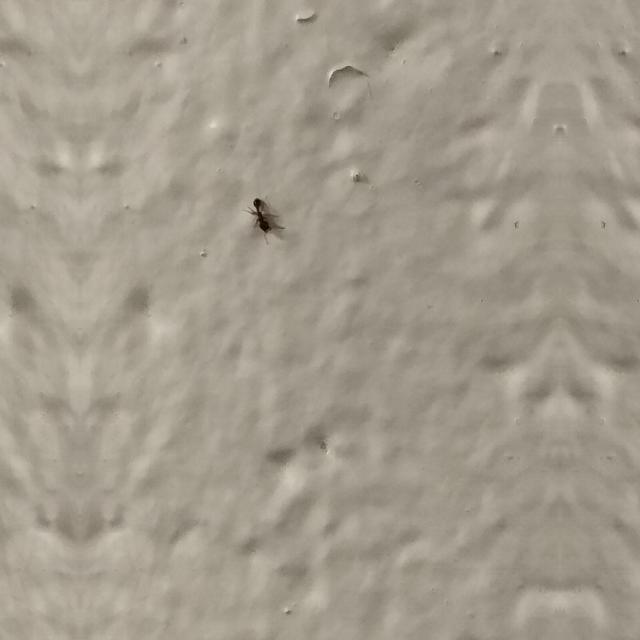Tetramorium: (241, 187, 277, 239)
